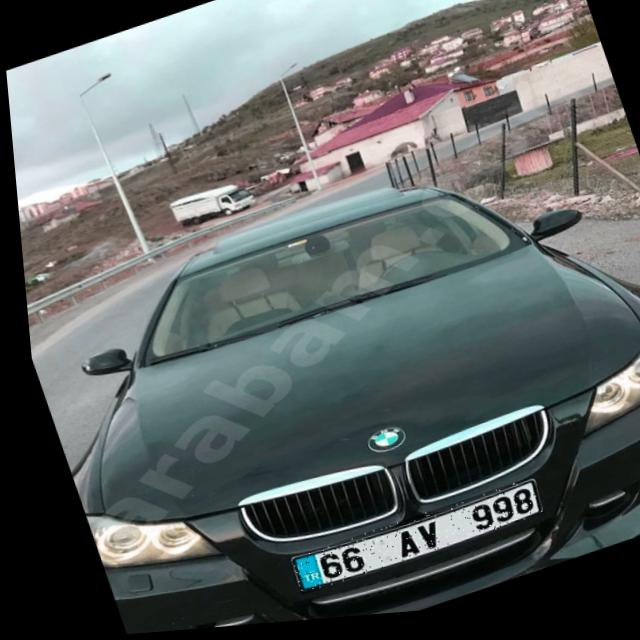license_plate: (274, 484, 538, 599)
